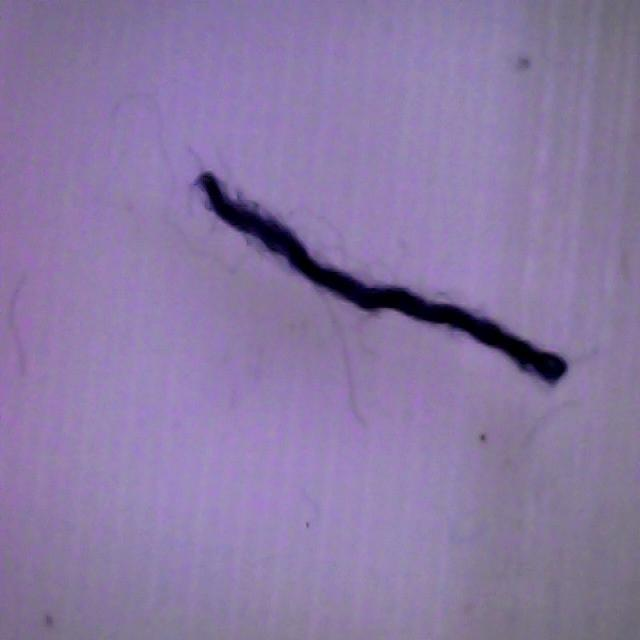fibers: (180, 168, 572, 407)
